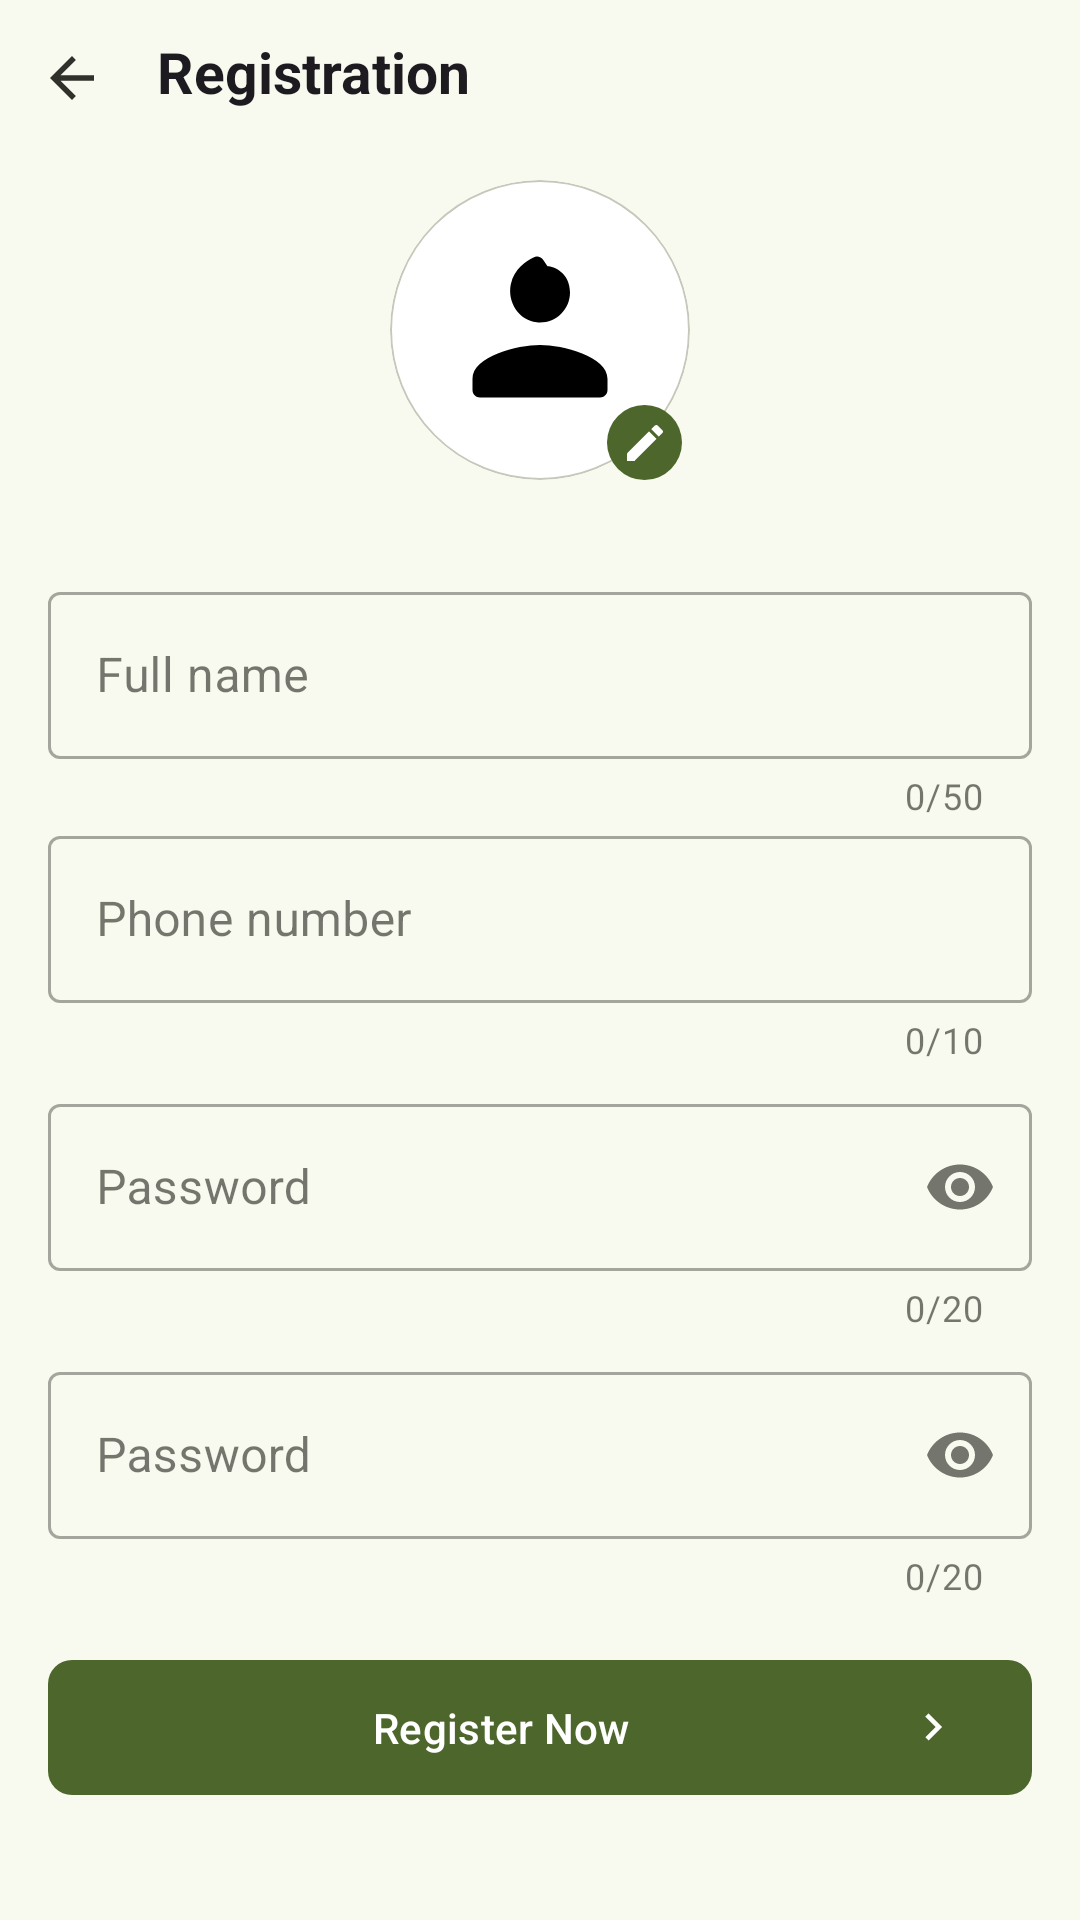

Screen size 1080w x 1920h. Icon name, then its center in pixels as [x,y]:
arrow back: [72,78]
customer: [540,327]
edit: [644,442]
